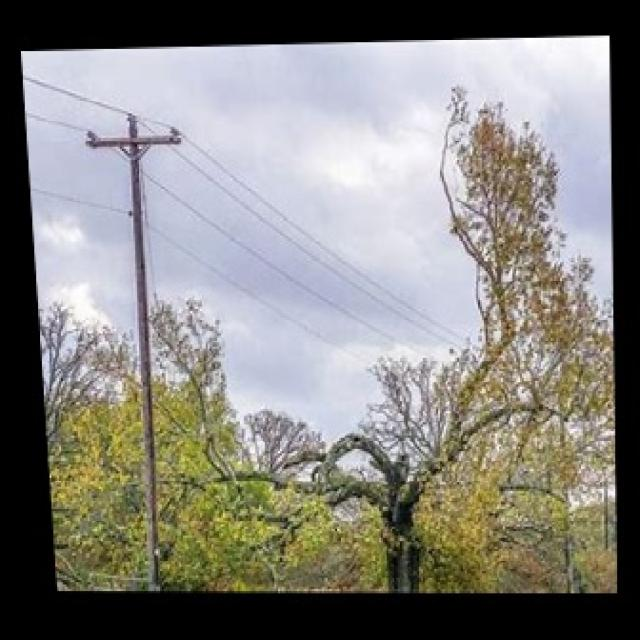utility poles: (86, 98, 190, 593)
